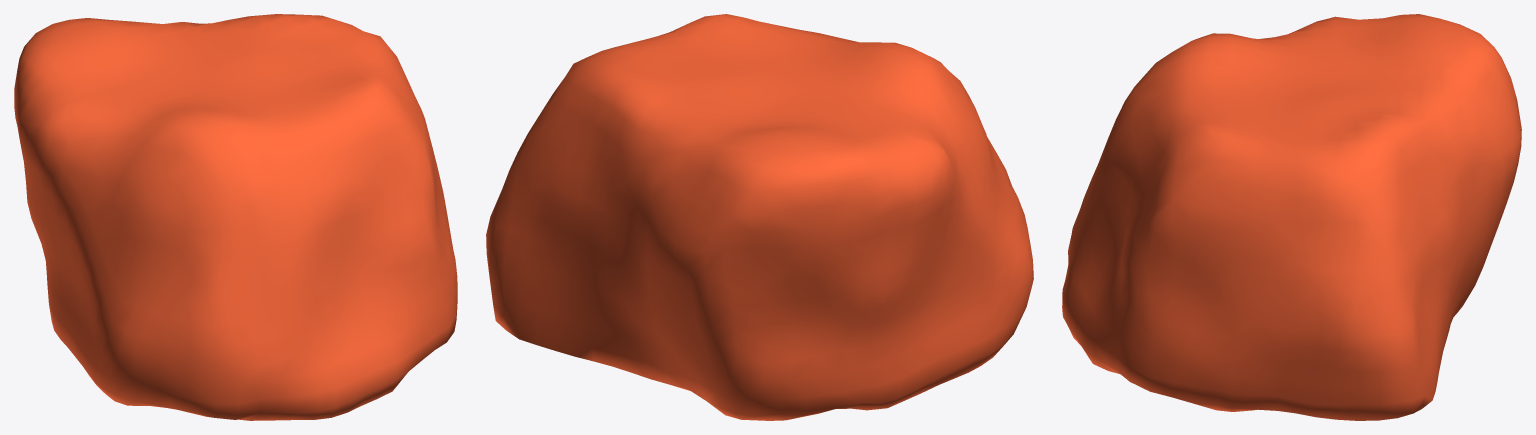
3 views of the same model, side by side, from view 1: azimuth 30°, elevation 25°; view 2: azimuth 150°, elevation 25°; view 3: azimuth 270°, elevation 25° (orthographic). The views are drawn at different scales.
Visible parts, largest first — view 1: Roca30; view 2: Roca30; view 3: Roca30.
Boxes of the visible parts, x1,y1,x2,y2 form: Roca30: (14, 14, 457, 420); Roca30: (486, 14, 1033, 420); Roca30: (1062, 14, 1521, 420).
Bounding box in the file's own units: 191 × 123 × 191.
